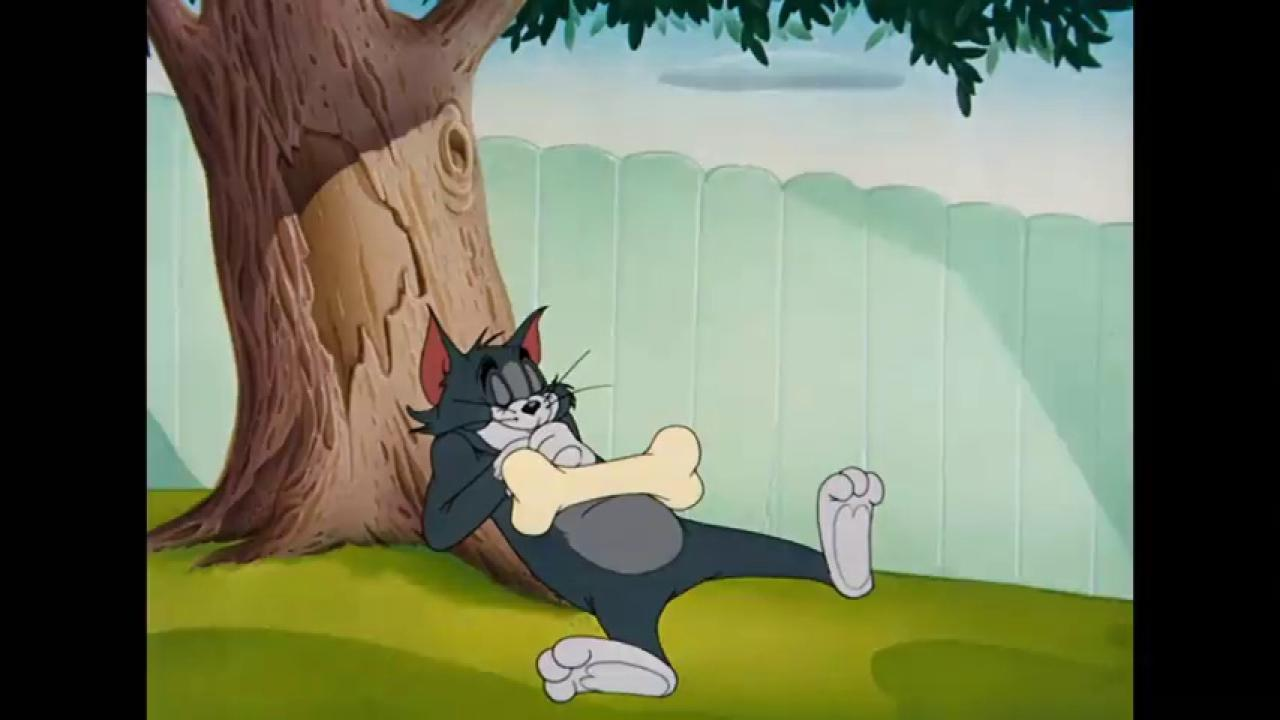Tom: (404, 298, 887, 704)
